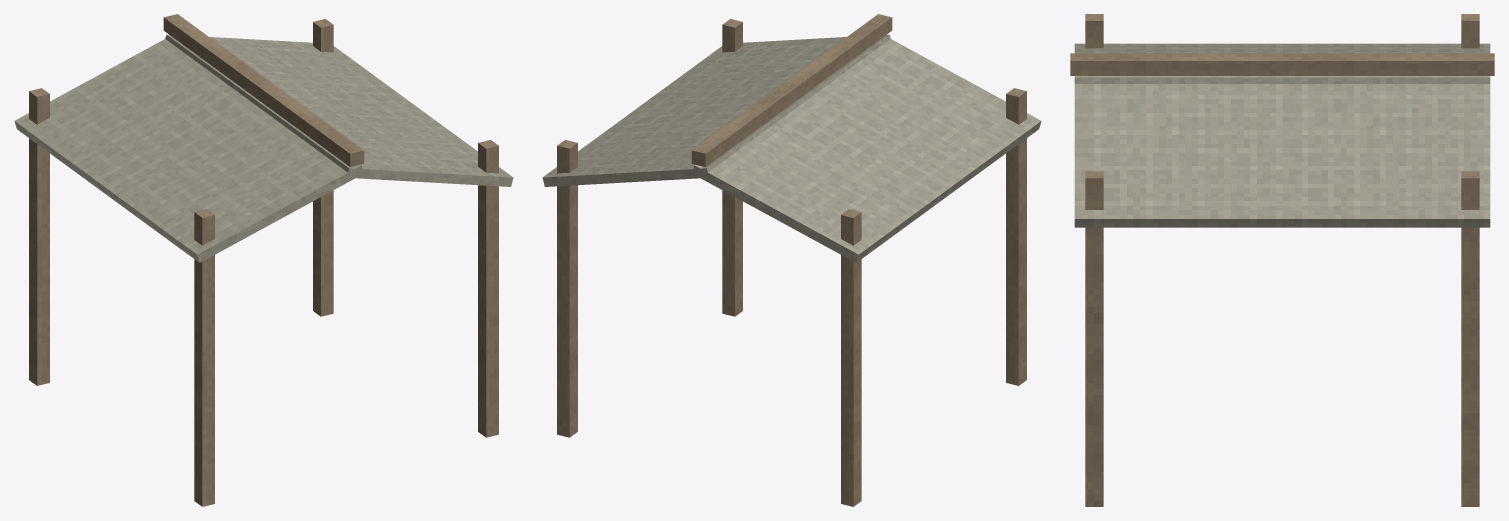
Rendered from level_blockout_camp_tarp_shelter.glb.
3 renders of one model, left to right at view 1: azimuth 30°, elevation 25°; view 2: azimuth 150°, elevation 25°; view 3: azimuth 270°, elevation 25°, orthographic. The views are drawn at different scales.
Parts seen in each view (by area): view 1: level_blockout_camp_tarp_shelter; view 2: level_blockout_camp_tarp_shelter; view 3: level_blockout_camp_tarp_shelter.
Boxes of the visible parts, x1,y1,x2,y2 form: level_blockout_camp_tarp_shelter: [14, 14, 513, 506]; level_blockout_camp_tarp_shelter: [542, 14, 1041, 506]; level_blockout_camp_tarp_shelter: [1070, 14, 1494, 506].
Bounding box in the file's own units: 2.5 × 2.44 × 2.55.
2 materials, 2 textured.
